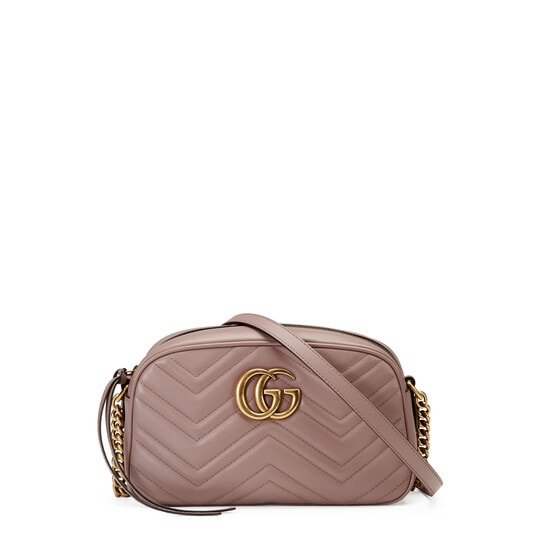Gucci: (97, 310, 438, 510), (217, 365, 318, 425)
